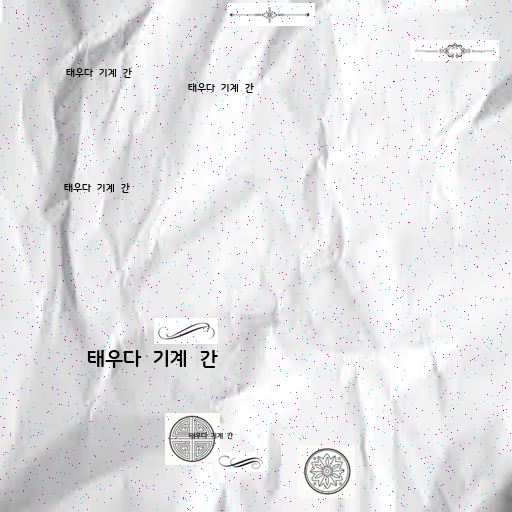text: (87, 348, 227, 368), (188, 82, 258, 92), (66, 67, 136, 77), (64, 182, 134, 192), (189, 432, 238, 439)
